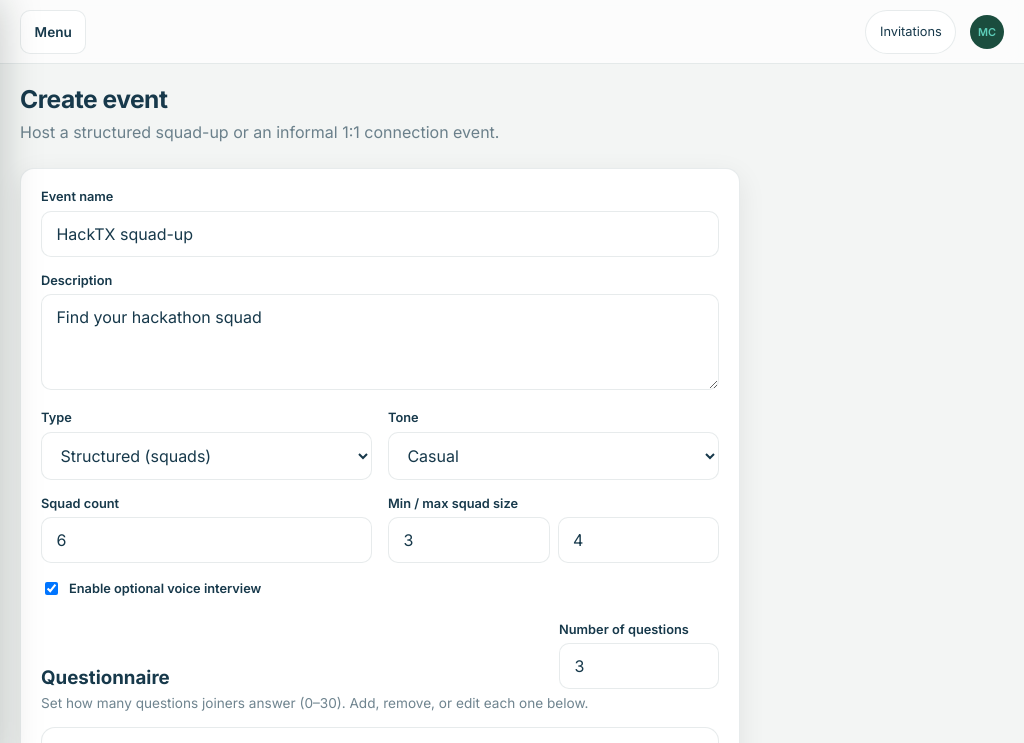
it: CreateEventPage questionnaire count › lets the host set how many questions are available
Expected: the heading "Create event" is shown, 20,84 -> 167,114
Replace the text in the number field labelled "Number of questions" with "5" at (639, 666), box 559,643 -> 719,689
(page scrolled)
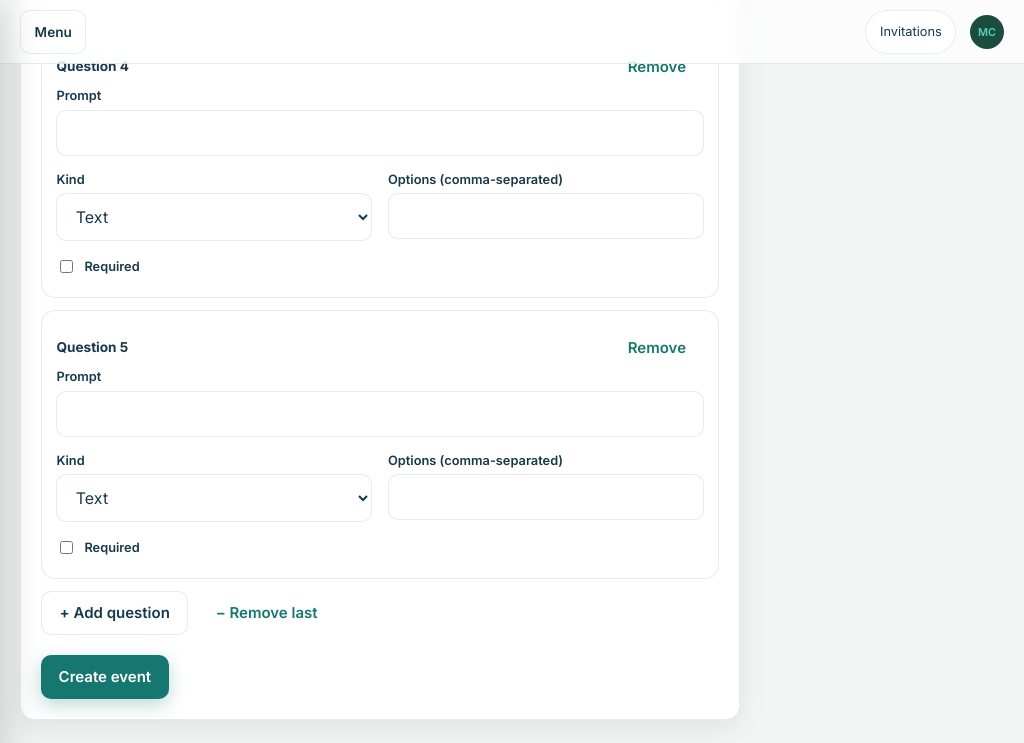
Expected: the text "Question 5" is shown, 56,339 -> 128,355
Click the button "− Remove last".
click(267, 613)  # box 198,591 -> 335,635
(page scrolled)
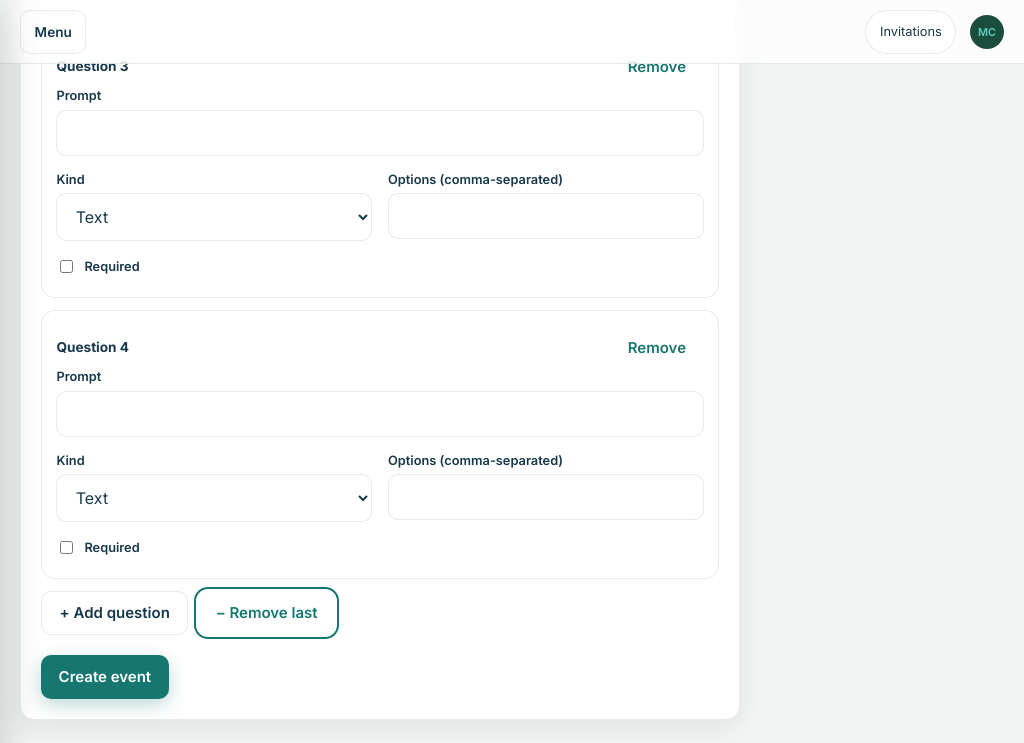
Expected: the text "Question 4" is shown, 56,339 -> 129,355
Expected: the text "Question 5" is gone
